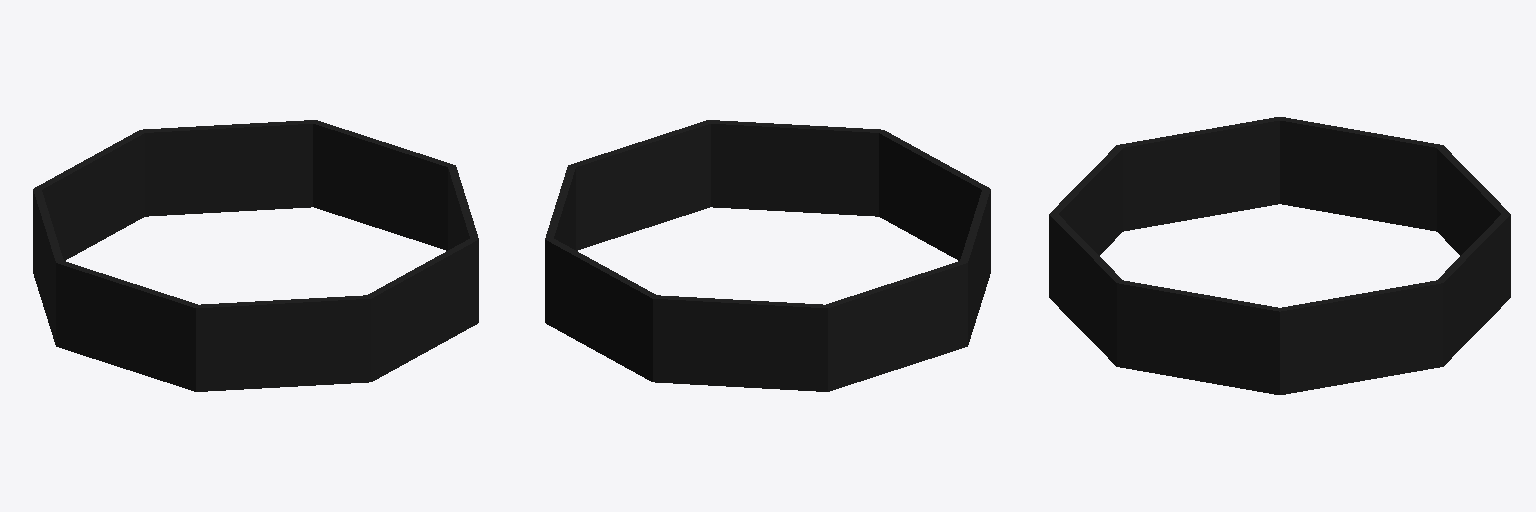
File: Target Origin.obj
3 views of the same model, side by side, from view 1: azimuth 30°, elevation 25°; view 2: azimuth 150°, elevation 25°; view 3: azimuth 270°, elevation 25° (orthographic).
Visible parts, largest first — view 1: Target Origin; view 2: Target Origin; view 3: Target Origin.
Part boxes in pixels (x1,y1,x2,y2): Target Origin: (33,120,478,391); Target Origin: (545,120,990,391); Target Origin: (1049,117,1510,394).
Size of the model in its own units: 0.5 by 0.1 by 0.5.